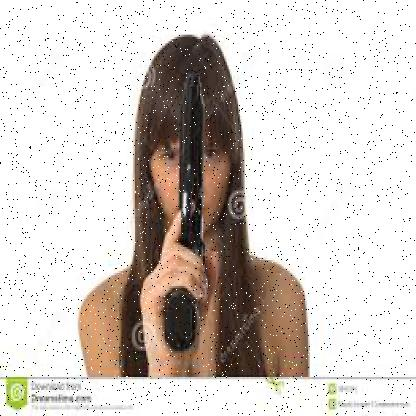pistol: (143, 65, 218, 357)
